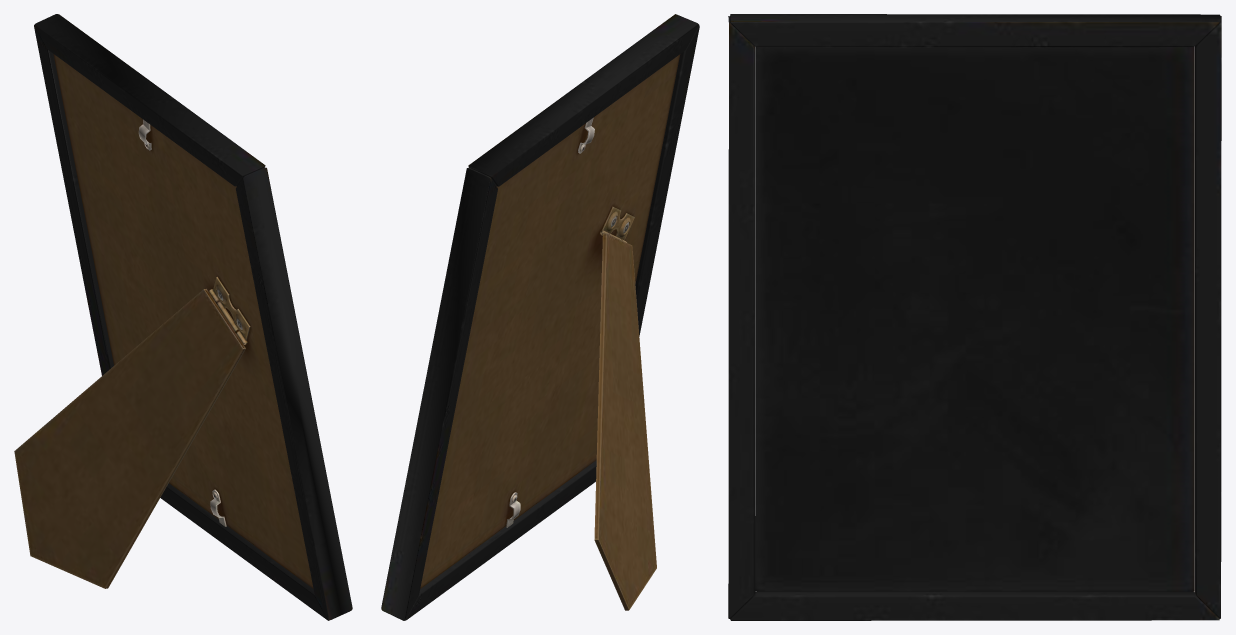
Rendered from standing_picture_frame_01.glb.
3 views of the same model, side by side, from view 1: azimuth 30°, elevation 25°; view 2: azimuth 150°, elevation 25°; view 3: azimuth 270°, elevation 25° (orthographic). The views are drawn at different scales.
Visible parts, largest first — view 1: standing_picture_frame_01; view 2: standing_picture_frame_01; view 3: standing_picture_frame_01.
Part boxes in pixels (x1=…): standing_picture_frame_01: x1=14, y1=14, x2=352, y2=620; standing_picture_frame_01: x1=381, y1=14, x2=699, y2=620; standing_picture_frame_01: x1=728, y1=14, x2=1221, y2=620.
Bounding box in the file's own units: 0.1003 × 0.2496 × 0.2004.
Materials: 3 (3 with a texture image).
